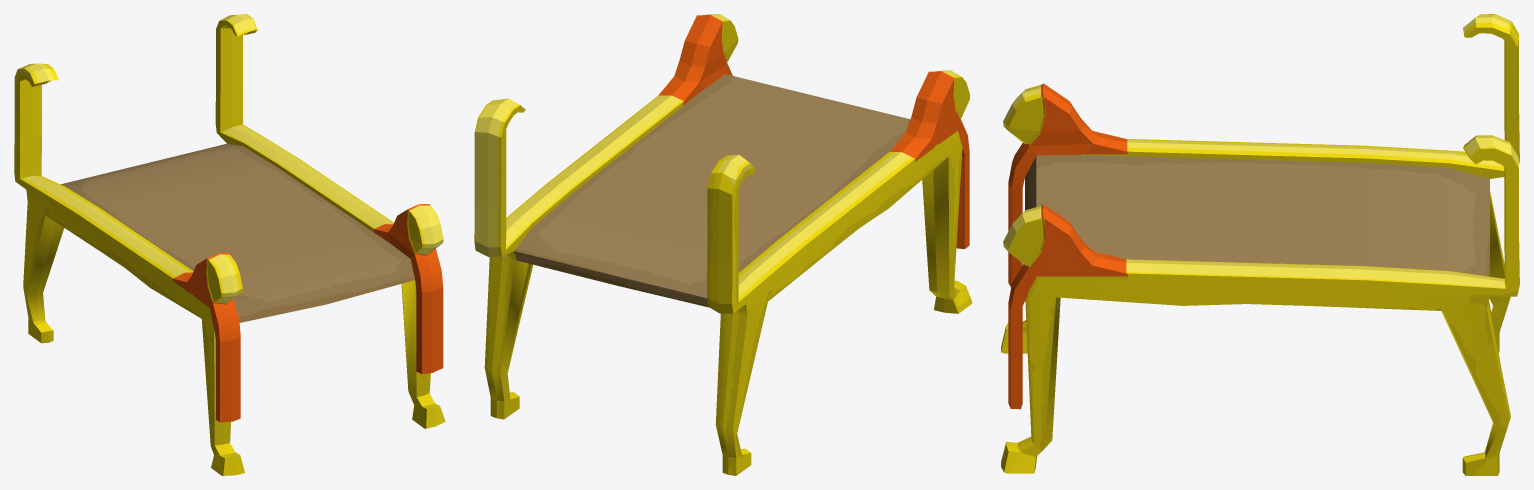
The model's file is EmbalmingTable.fbx.
3 views of the same model, side by side, from view 1: azimuth 30°, elevation 25°; view 2: azimuth 150°, elevation 25°; view 3: azimuth 270°, elevation 25° (orthographic). The views are drawn at different scales.
Parts seen in each view (by area): view 1: pCube1; view 2: pCube1; view 3: pCube1.
Boxes of the visible parts, left/top/right/bottom form: pCube1: left=14, top=14, right=445, bottom=475; pCube1: left=474, top=14, right=972, bottom=475; pCube1: left=1001, top=14, right=1519, bottom=475.
Bounding box in the file's own units: 1.36 × 1.57 × 2.21.
1 material, 1 textured.
